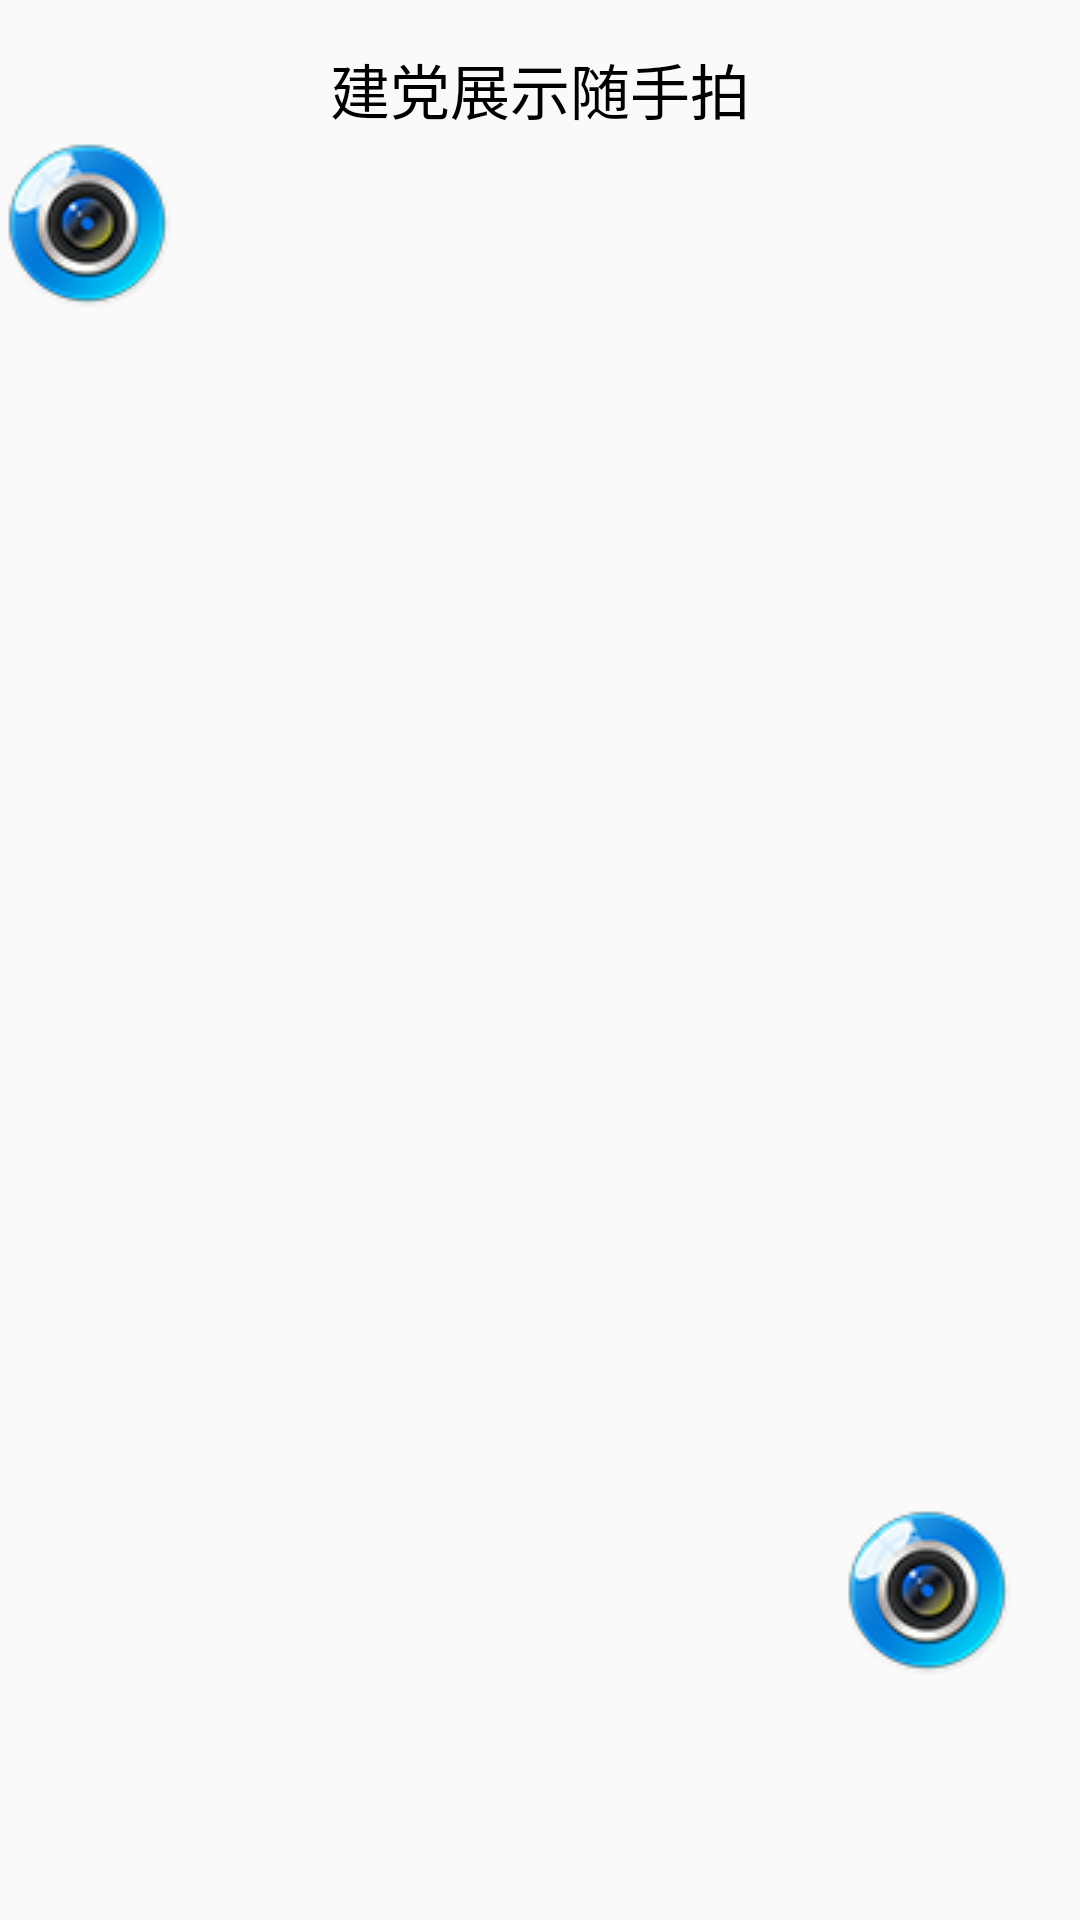

Named icons in this screenshot (1080×1920) and their centers, (x,y):
photo: (87,223), (927,1590)
